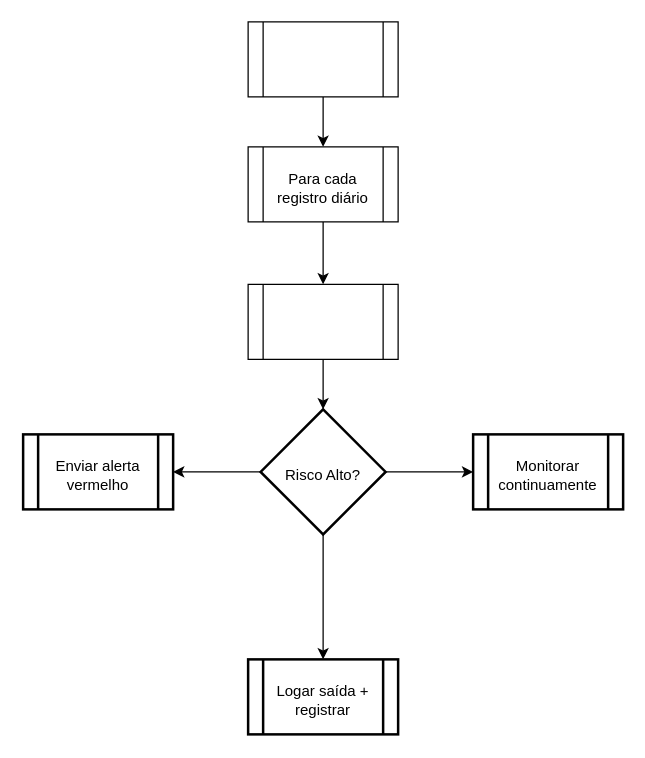
Image size: 645x758. Some labels were removed from this diagram. The shapes that lost their labels are listed below. From the top down, each one's centre as x and y in pixels, then its label:
[322,59]: Start (Leitura CSV)
[322,321]: Aplicar regras de nível do rio
